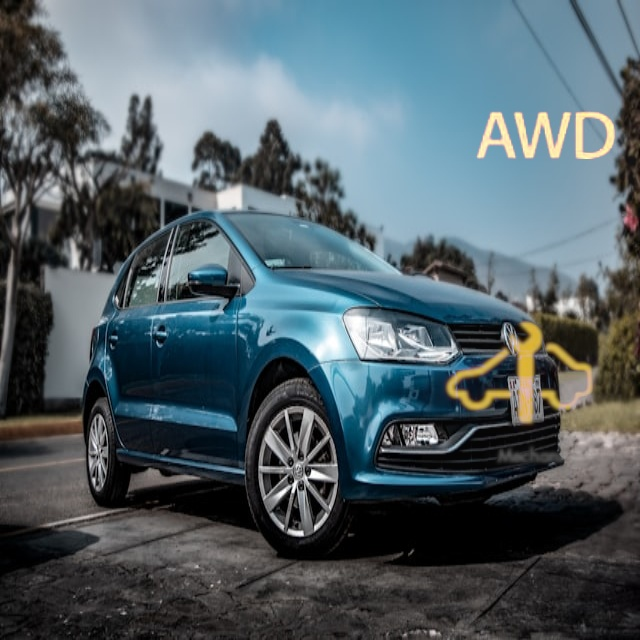symbol: (422, 278, 616, 472), (453, 46, 636, 229)
